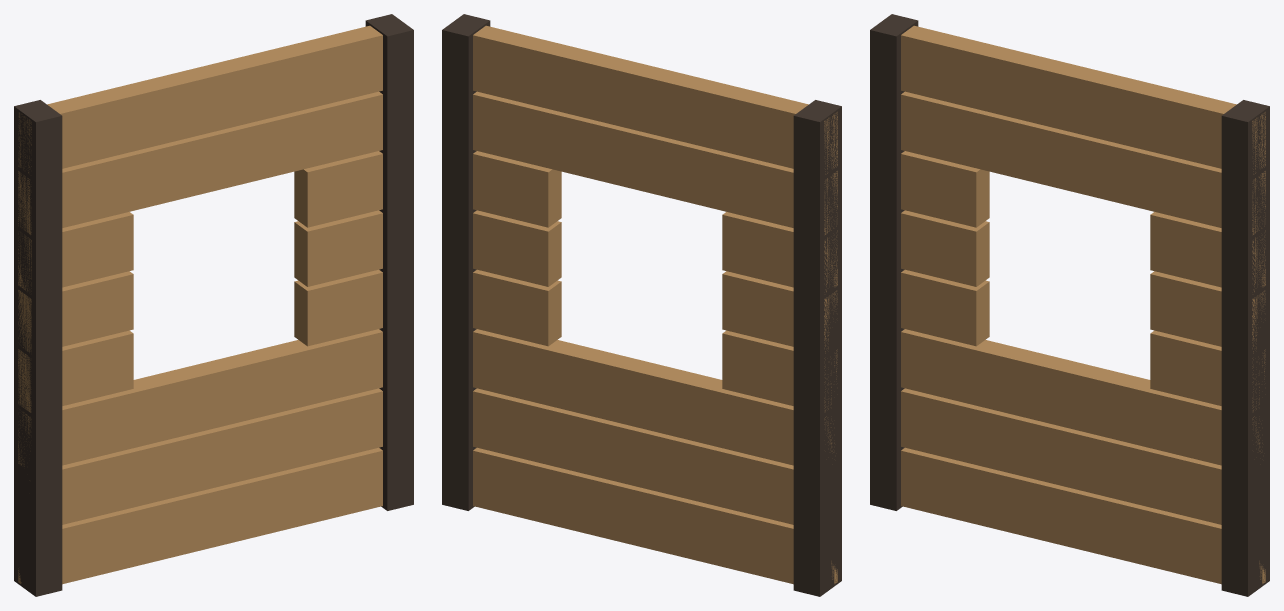
File: wood_wall_window.glb
3 renders of one model, left to right at view 1: azimuth 30°, elevation 25°; view 2: azimuth 150°, elevation 25°; view 3: azimuth 330°, elevation 25°, orthographic.
Visible parts, largest first — view 1: wood_wall_window; view 2: wood_wall_window; view 3: wood_wall_window.
Part boxes in pixels (x1,y1,x2,y2): wood_wall_window: (14,14,413,596); wood_wall_window: (442,14,841,596); wood_wall_window: (870,14,1269,596).
Bounding box in the file's own units: 2 × 2.4 × 0.2.
